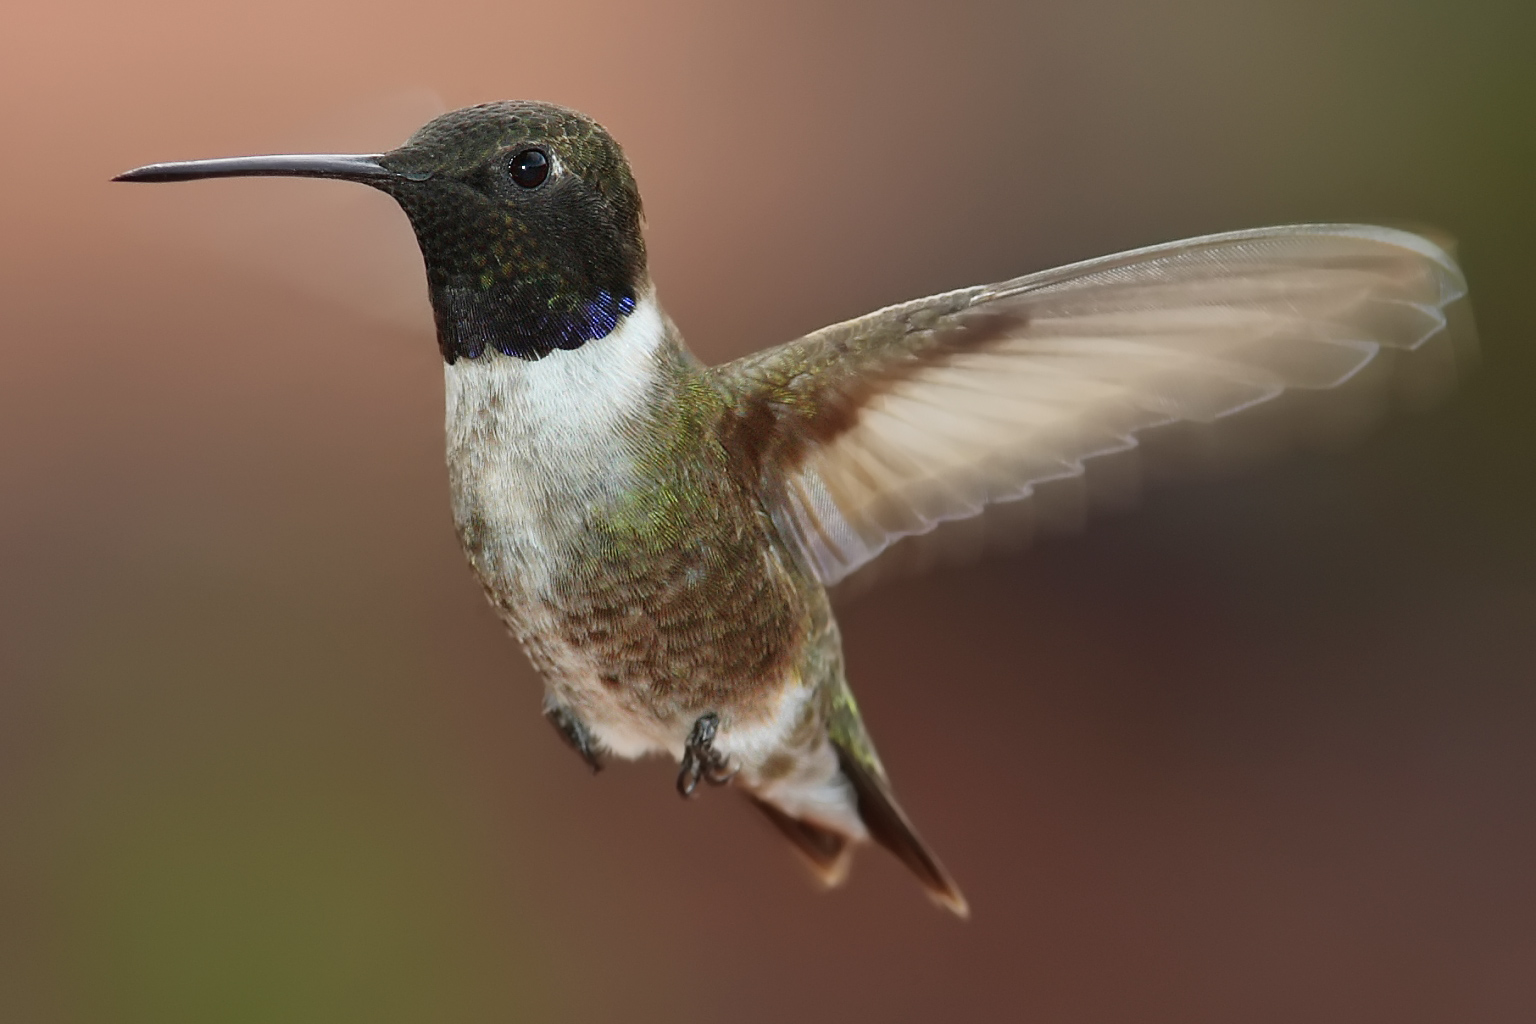archilochus alexandri: (101, 98, 1470, 917)
